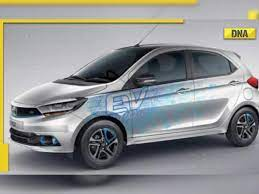Tiago: (9, 40, 259, 173)
